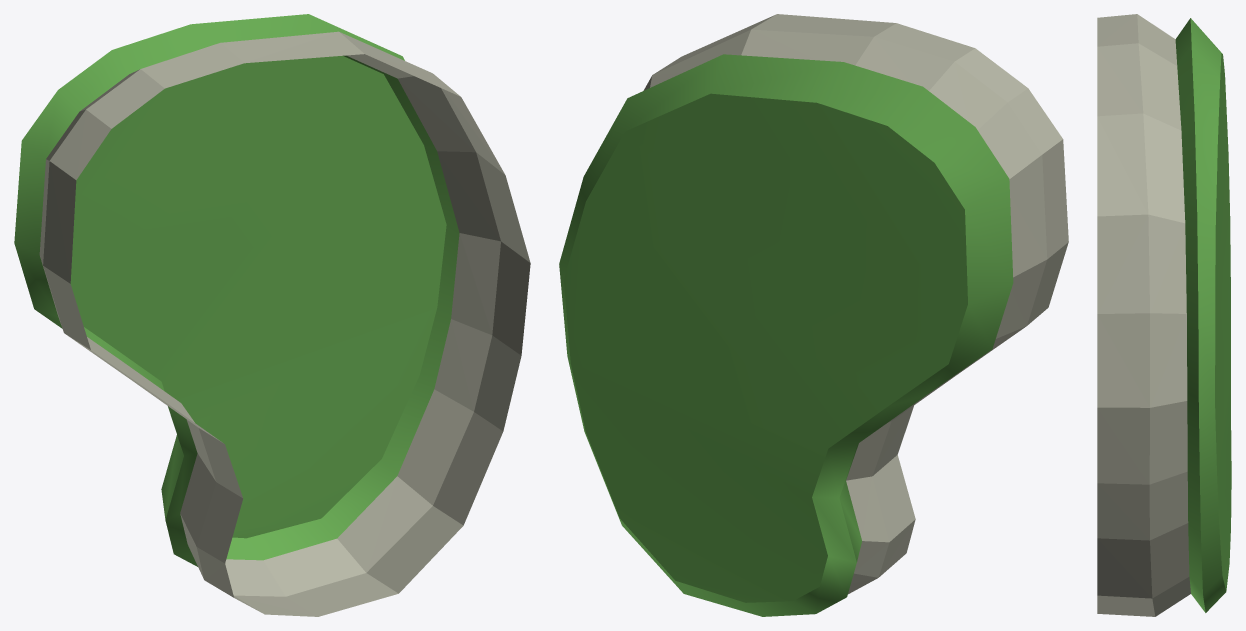
Rendered from Ground Grass 02.FBX.
3 views of the same model, side by side, from view 1: azimuth 30°, elevation 25°; view 2: azimuth 150°, elevation 25°; view 3: azimuth 270°, elevation 25° (orthographic). The views are drawn at different scales.
Parts seen in each view (by area): view 1: Ground Grass 02; view 2: Ground Grass 02; view 3: Ground Grass 02.
Part boxes in pixels (x1=…): Ground Grass 02: x1=14, y1=14, x2=530, y2=616; Ground Grass 02: x1=559, y1=14, x2=1068, y2=616; Ground Grass 02: x1=1097, y1=14, x2=1231, y2=616.
Bounding box in the file's own units: 239 × 68.11 × 286.
